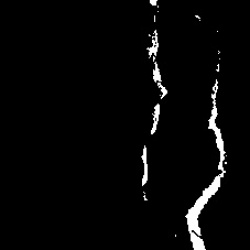crack: (182, 26, 229, 246), (141, 4, 172, 203)
pinhole: (193, 13, 204, 23)
